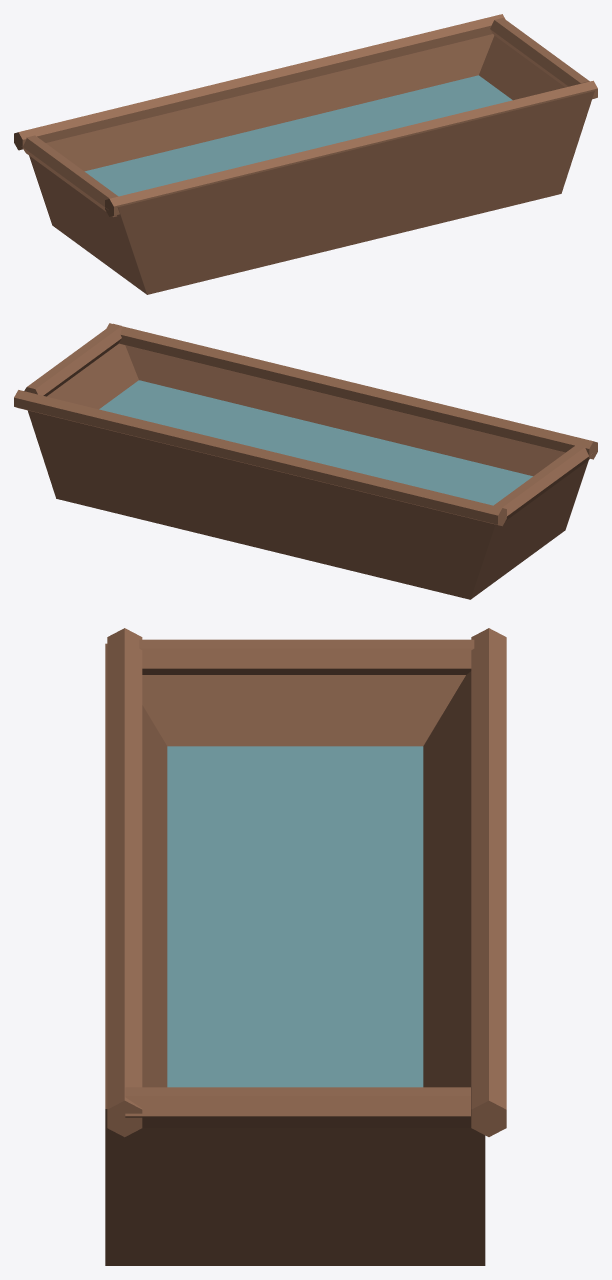
File: west_feeder.fbx
3 views of the same model, one above another, from view 1: azimuth 30°, elevation 25°; view 2: azimuth 150°, elevation 25°; view 3: azimuth 270°, elevation 25° (orthographic). The views are drawn at different scales.
Parts seen in each view (by area): view 1: pCube2; view 2: pCube2; view 3: pCube2.
Boxes of the visible parts, x1=… form: pCube2: x1=14, y1=14, x2=597, y2=294; pCube2: x1=14, y1=323, x2=597, y2=599; pCube2: x1=105, y1=628, x2=506, y2=1265.
Size of the model in its own units: 4.01 by 0.7999 by 1.44.
